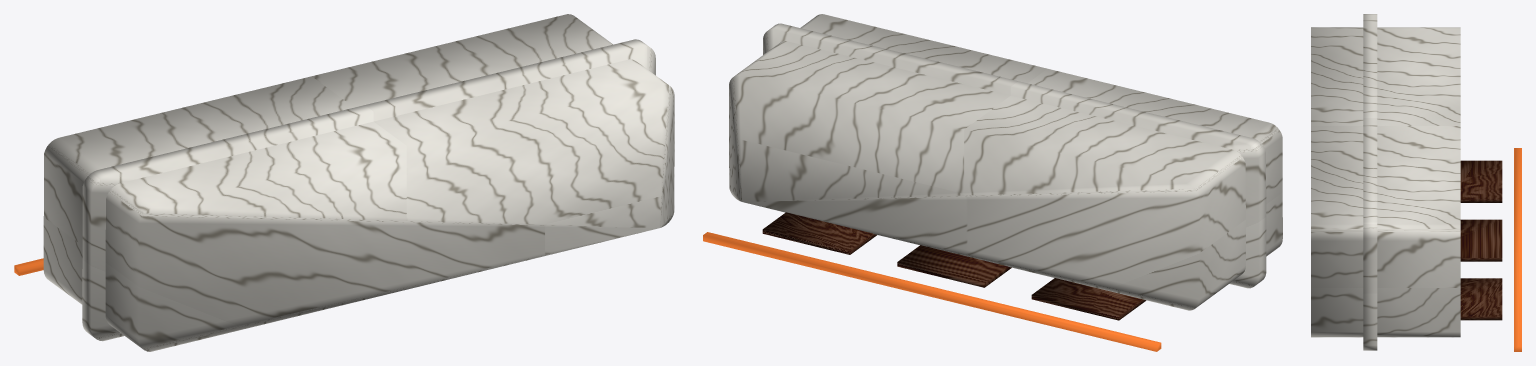
Rendered from PANTRY_COUNTER_MARBLE_HERO_001.glb.
The picture shows the model from 3 angles, left to right: view 1: azimuth 30°, elevation 25°; view 2: azimuth 150°, elevation 25°; view 3: azimuth 270°, elevation 25°; orthographic projection. The views are drawn at different scales.
Parts seen in each view (by area): view 1: counter_body_000, counter_top_001; view 2: counter_body_000, counter_top_001, kick_light_005, cabinet_front_002, cabinet_front_004, cabinet_front_003; view 3: counter_body_000, counter_top_001, cabinet_front_002, cabinet_front_003, cabinet_front_004, kick_light_005.
Boxes of the visible parts, bbox=[...] form: counter_body_000: bbox=[43, 14, 674, 351]; counter_top_001: bbox=[82, 39, 655, 341]; counter_body_000: bbox=[729, 14, 1282, 310]; counter_top_001: bbox=[763, 23, 1266, 288]; kick_light_005: bbox=[703, 232, 1161, 351]; cabinet_front_002: bbox=[1031, 278, 1146, 320]; cabinet_front_004: bbox=[762, 212, 876, 254]; cabinet_front_003: bbox=[897, 245, 1011, 287]; counter_body_000: bbox=[1311, 27, 1460, 337]; counter_top_001: bbox=[1363, 14, 1377, 350]; cabinet_front_002: bbox=[1460, 160, 1502, 202]; cabinet_front_003: bbox=[1460, 219, 1502, 261]; cabinet_front_004: bbox=[1460, 278, 1502, 320]; kick_light_005: bbox=[1514, 148, 1521, 351].
Size of the model in its own units: 2.95 by 0.8575 by 1.21.
Materials: 3 (3 with a texture image).
